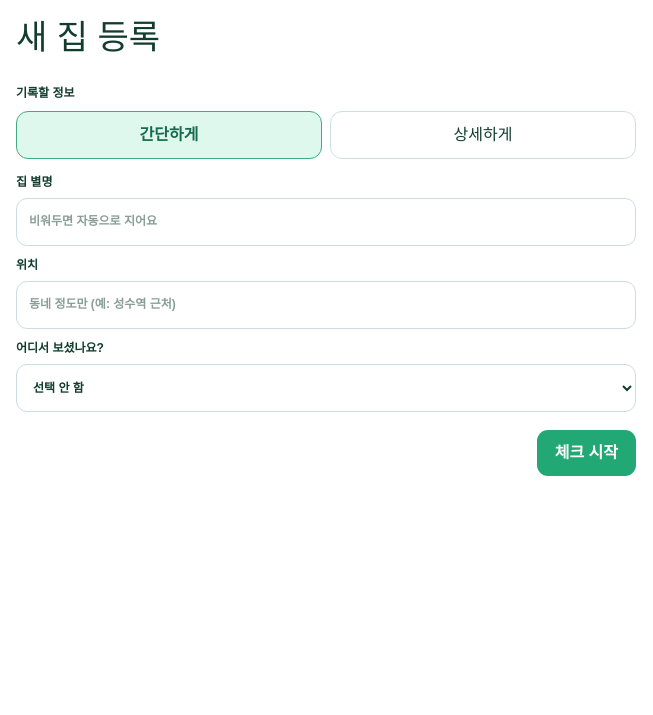
Test: 집 등록 › 유입 경로와 상세 선택 정보를 받는다
Click the radio button labelled "상세하게".
click(483, 135)  # box [330,111,636,159]
(page scrolled)
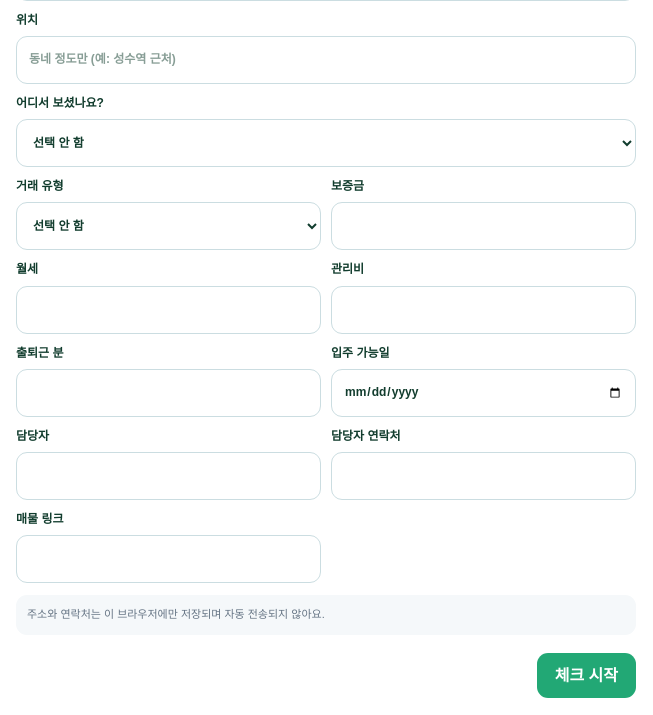
Expected: the field labelled "위치" is shown, [16,36,636,84]
Now the field labelled "담당자 연락처" is shown, box [331,452,636,500]
Now the text "주소와 연락처는 이 브라우저에만 저장되며 자동 전송되지 않아요." is shown, box [16,595,636,635]
